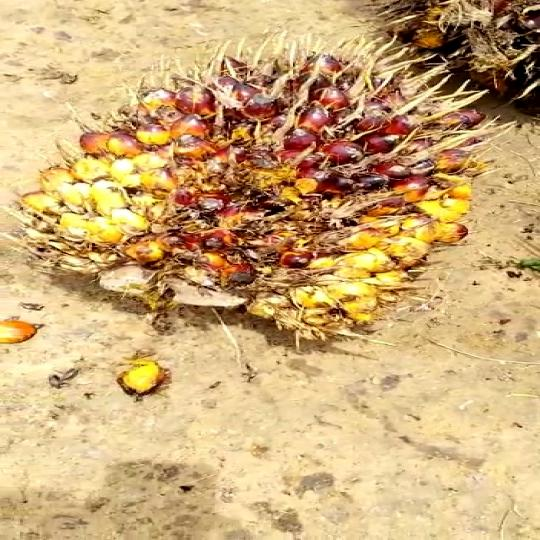masak: (32, 41, 496, 363)
